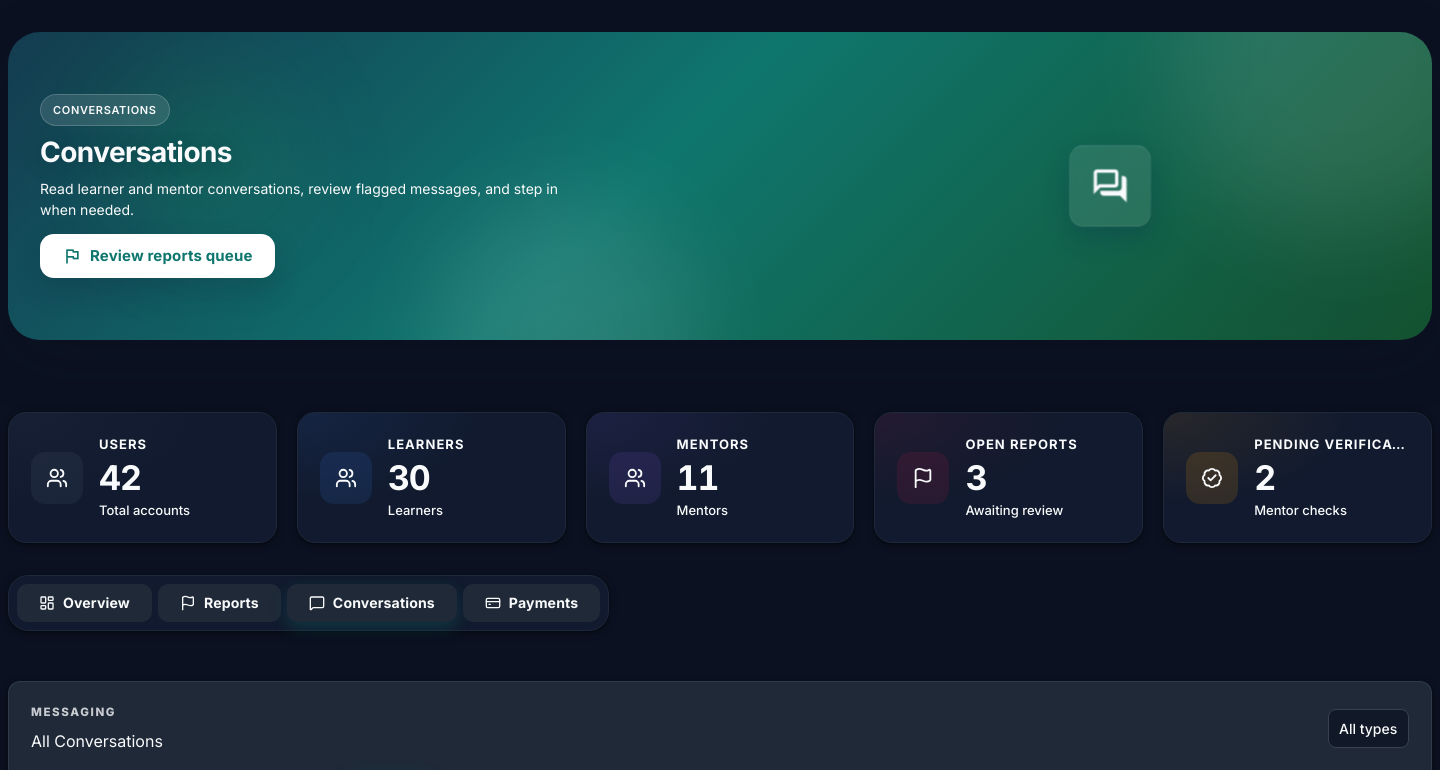
it: AdminOperationsPage › opens the Overview tab when the reports page body is null
Step 1. Click the tab "Overview" → x=84, y=603, box left=17, top=584, right=152, bottom=622
(page scrolled)
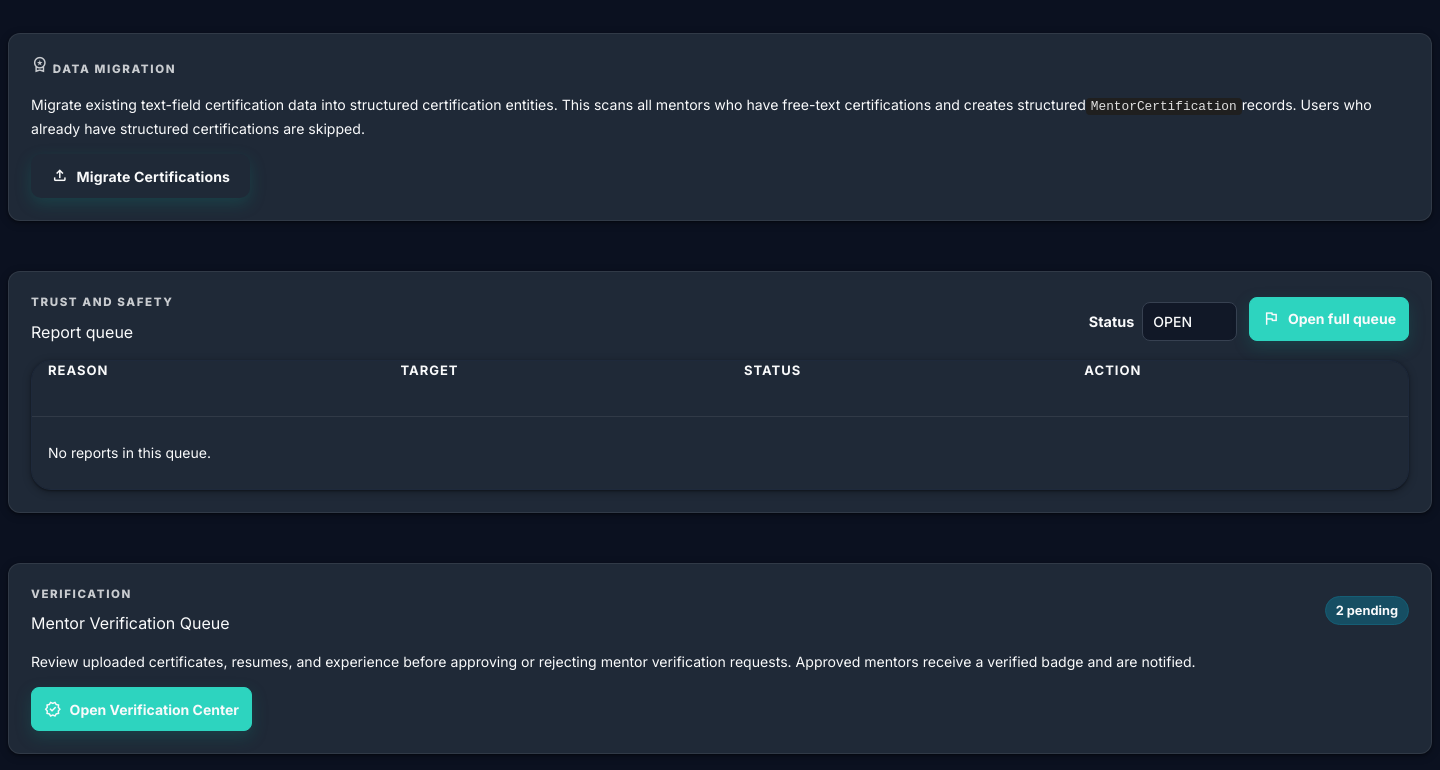
Expected: the text "No reports in this queue." is shown, left=32, top=416, right=1408, bottom=488
